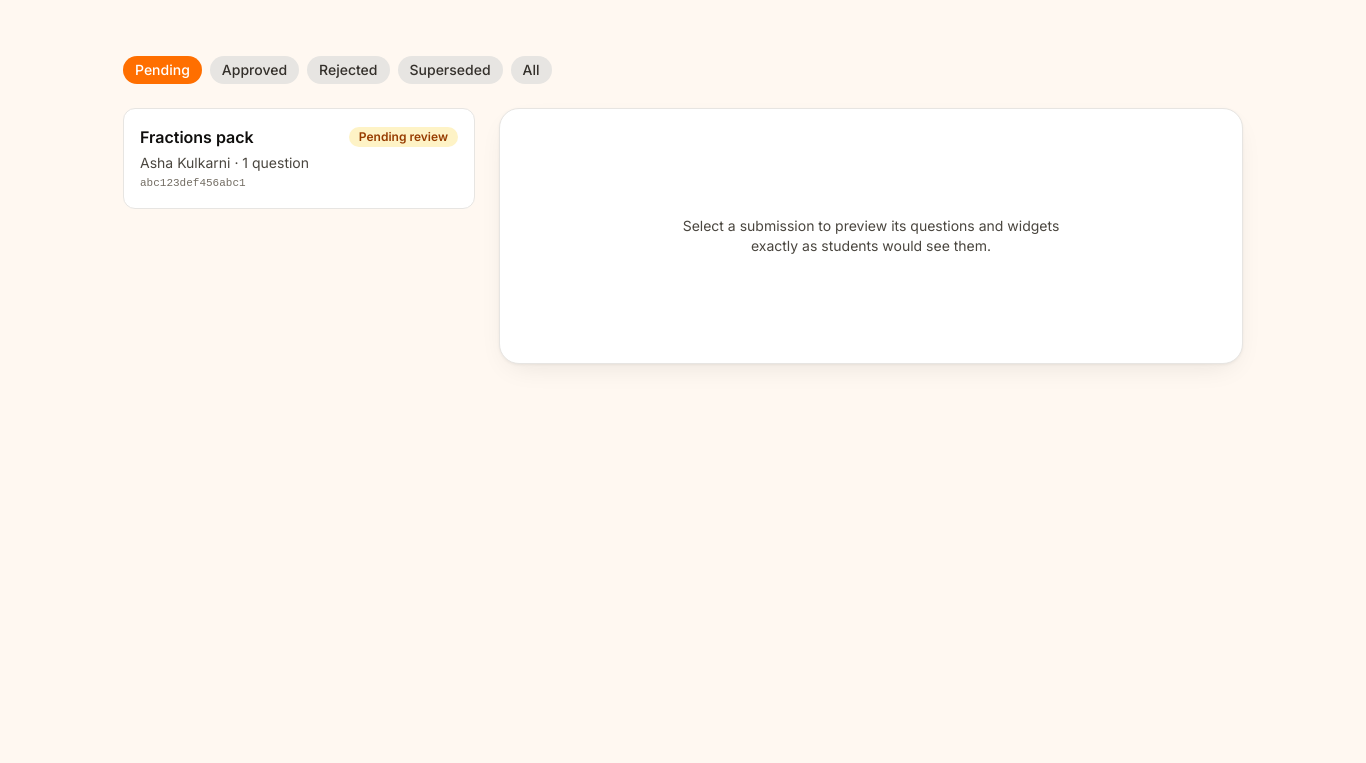
Test case: <SubmissionsPage /> › surfaces a server 409 from the state machine instead of papering over it
Click the text "Fractions pack" at (197, 137), box [140,125,254,149]
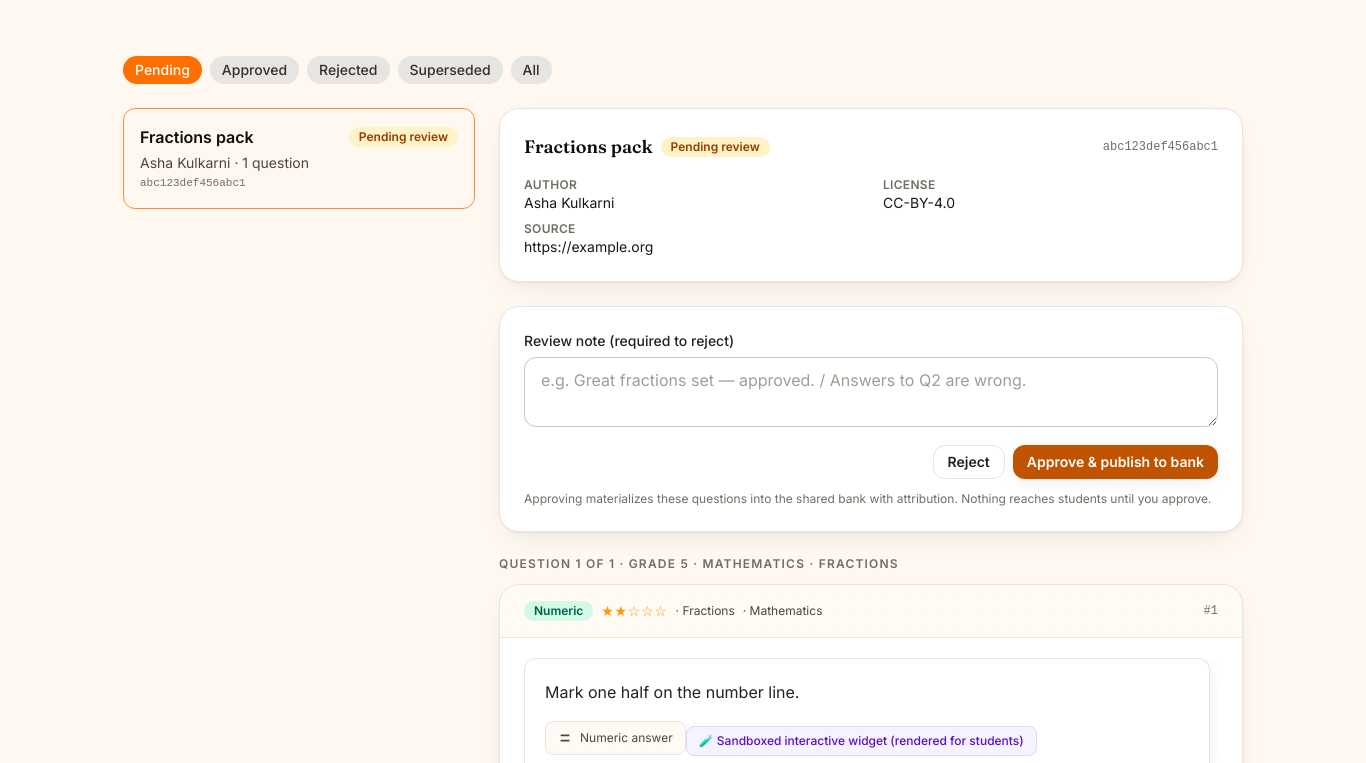
Click the button "Approve & publish to bank" at (1115, 462), box [1013,445,1218,479]
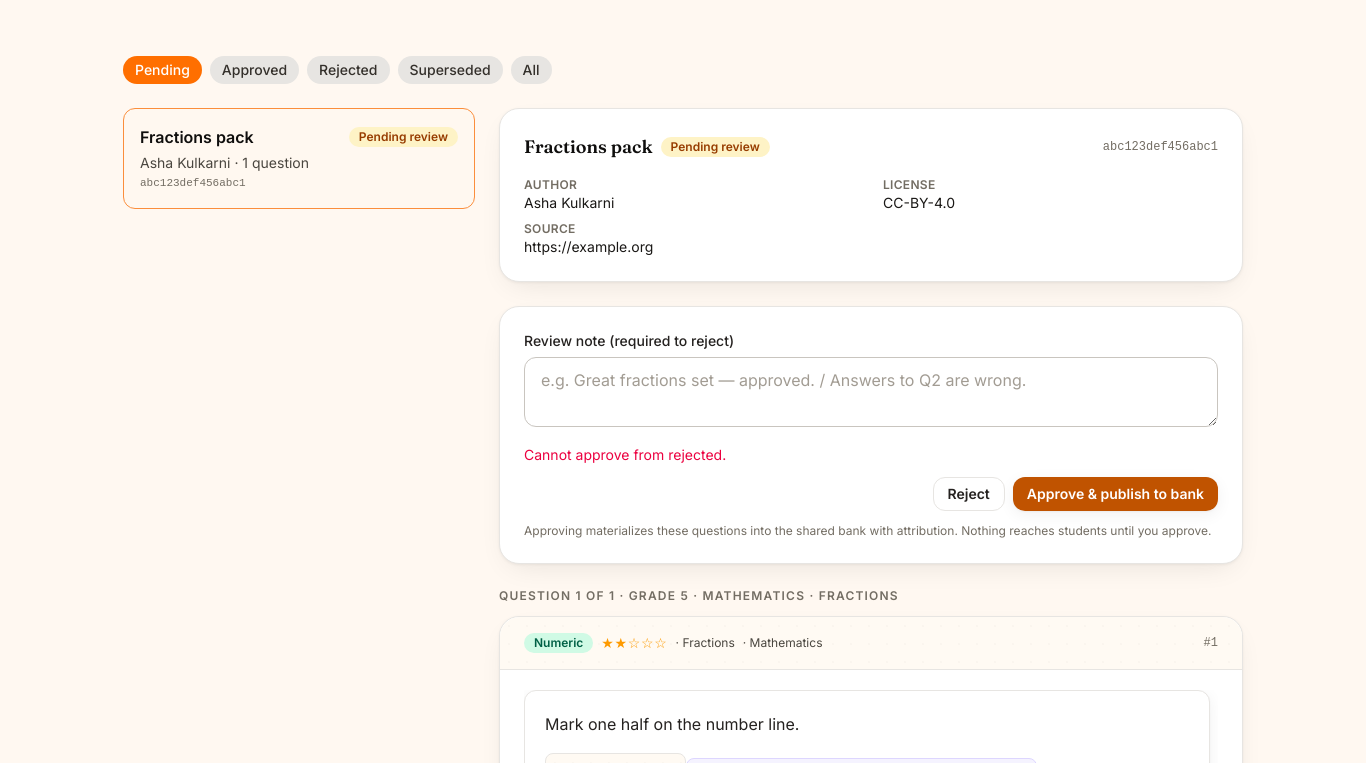
Expected: the message reads "Cannot approve from rejected.", [524,446,726,463]
